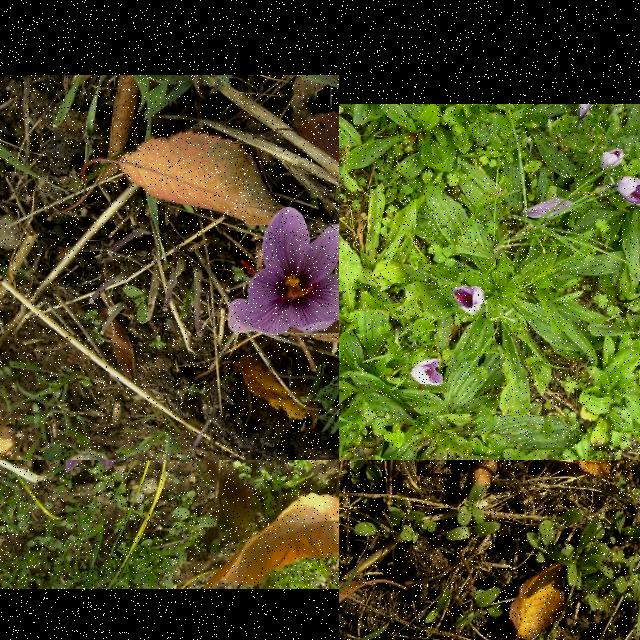flower: (228, 206, 339, 334), (454, 286, 484, 316), (612, 177, 640, 207), (412, 359, 444, 385), (599, 148, 625, 174)
